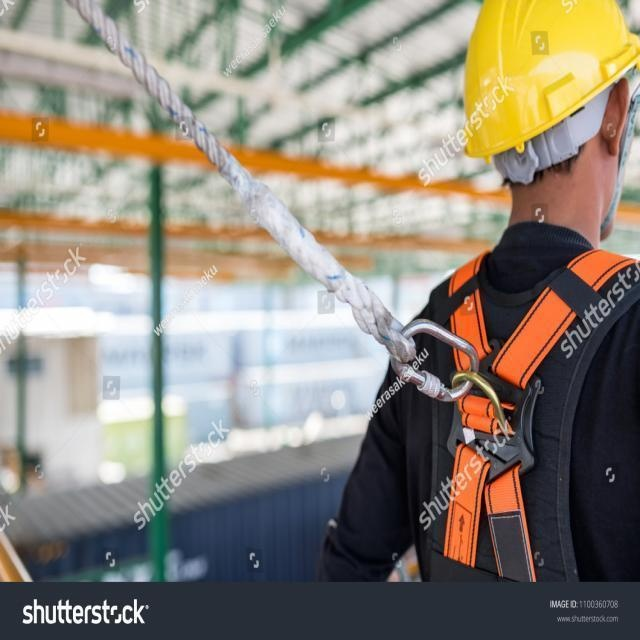Arnes_seguridad: (385, 245, 639, 583)
